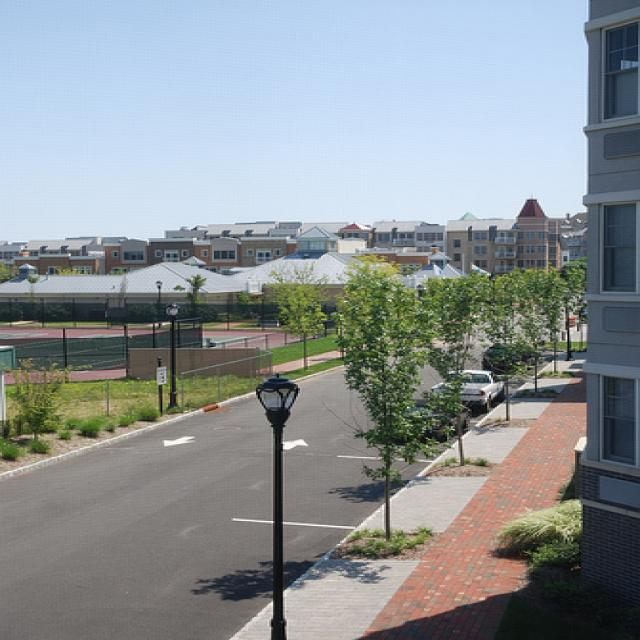car: (375, 399, 471, 447), (425, 368, 509, 412), (479, 343, 538, 372)
